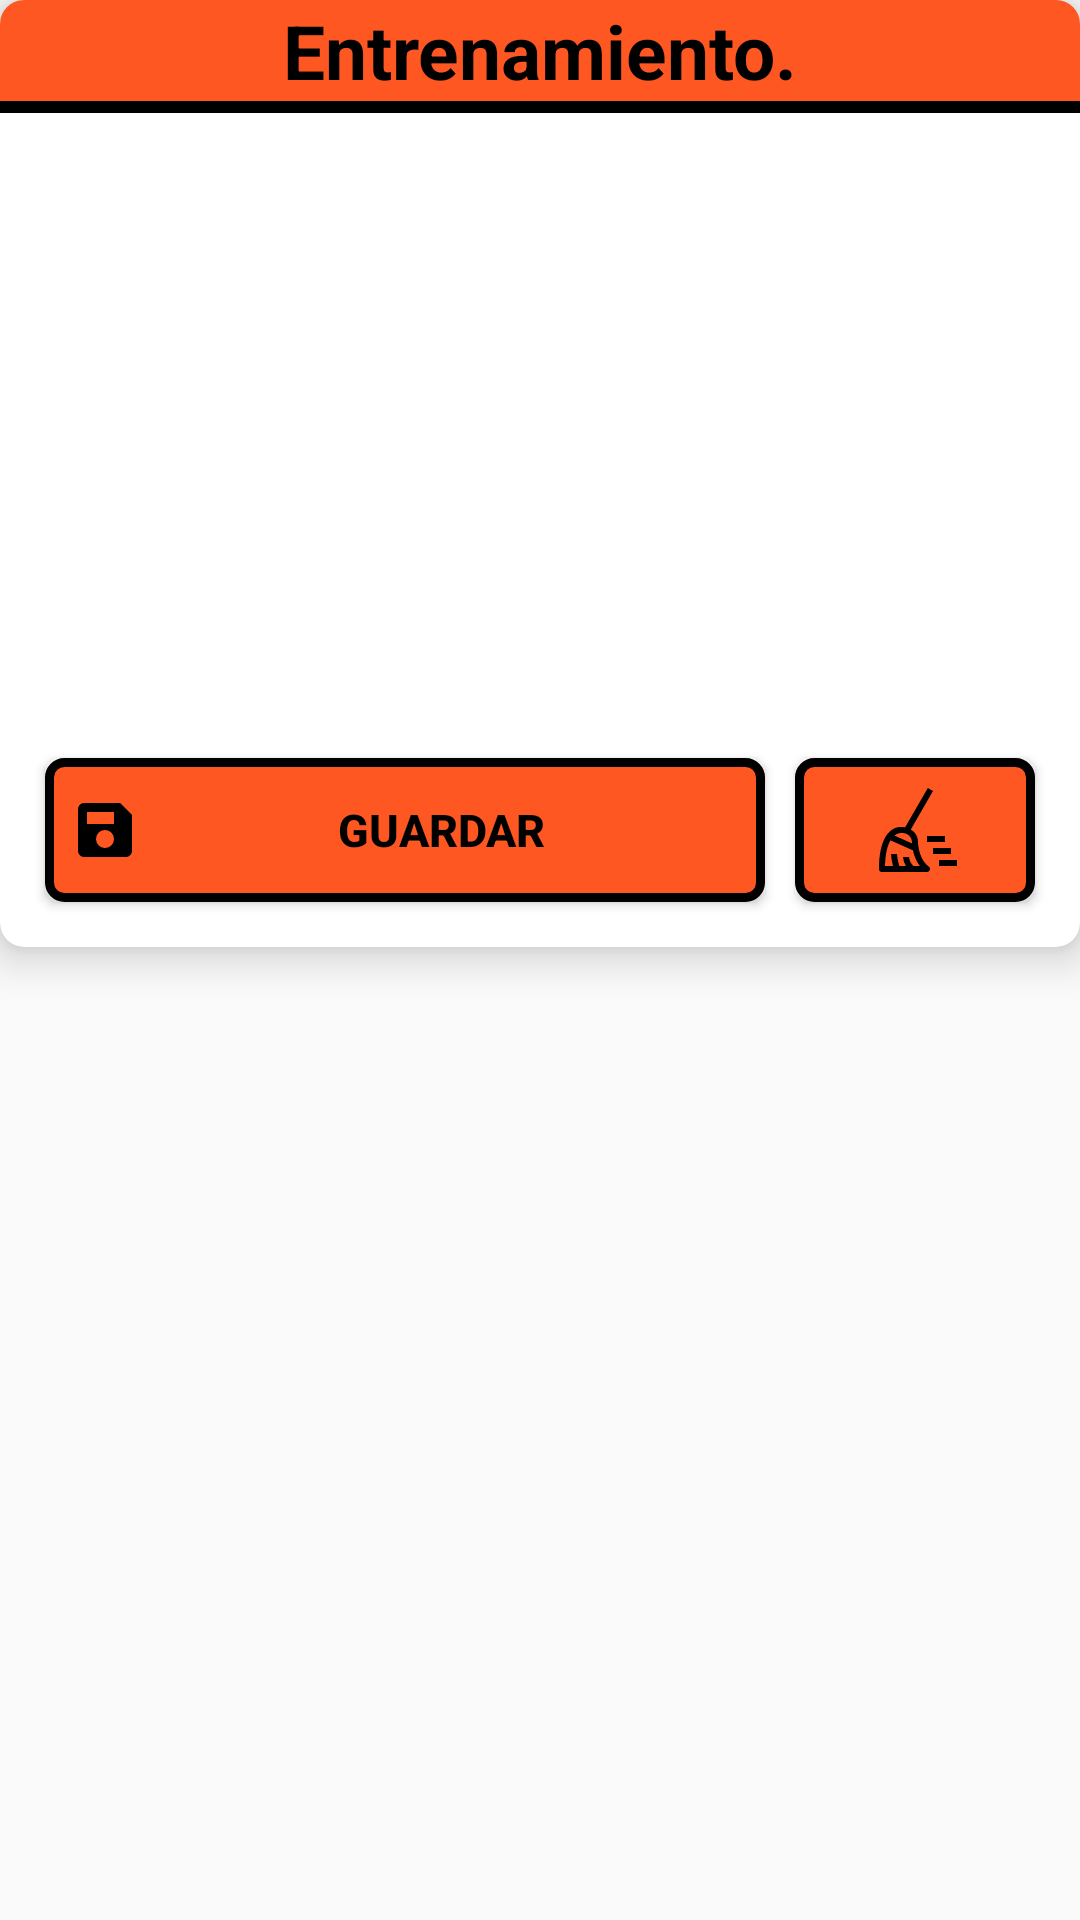

Point at icon controls on the screen. Image size 1080x1920, points as [x,y].
clean: [915,830]
